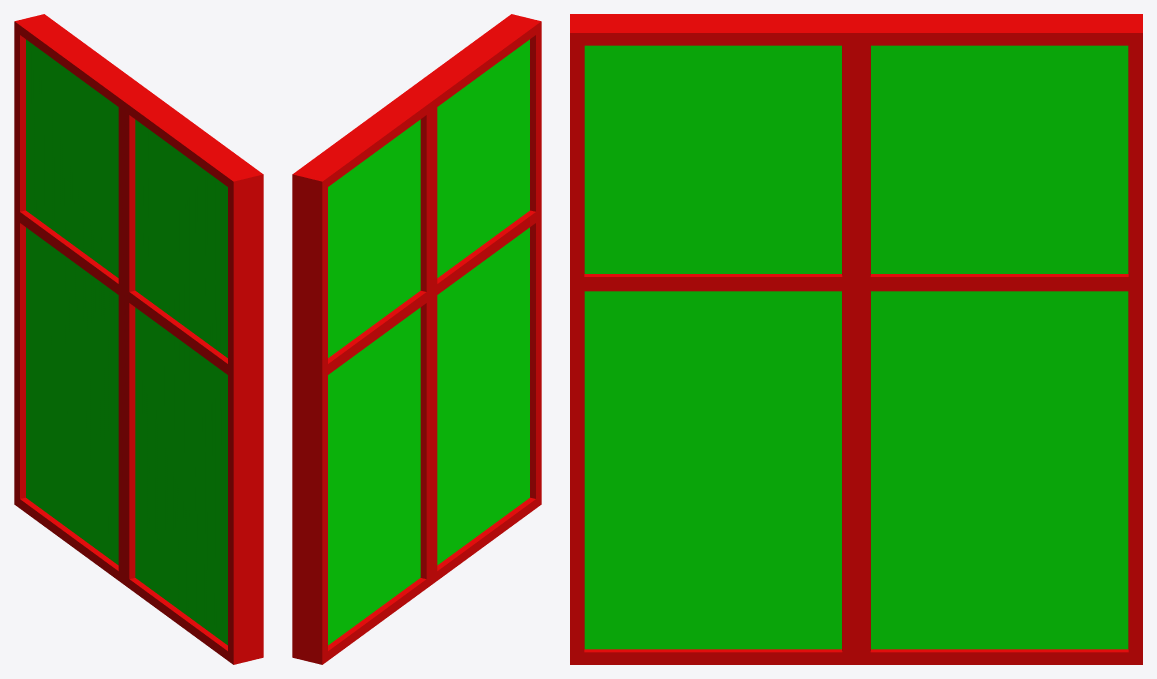
The model's file is BigWindowWall.fbx.
3 views of the same model, side by side, from view 1: azimuth 30°, elevation 25°; view 2: azimuth 150°, elevation 25°; view 3: azimuth 270°, elevation 25° (orthographic). The views are drawn at different scales.
Visible parts, largest first — view 1: Cube; view 2: Cube; view 3: Cube.
Boxes of the visible parts, left/top/right/bottom form: Cube: left=14, top=14, right=263, bottom=664; Cube: left=292, top=14, right=541, bottom=664; Cube: left=570, top=14, right=1142, bottom=664.
Bounding box in the file's own units: 530 × 41.84 × 646.
